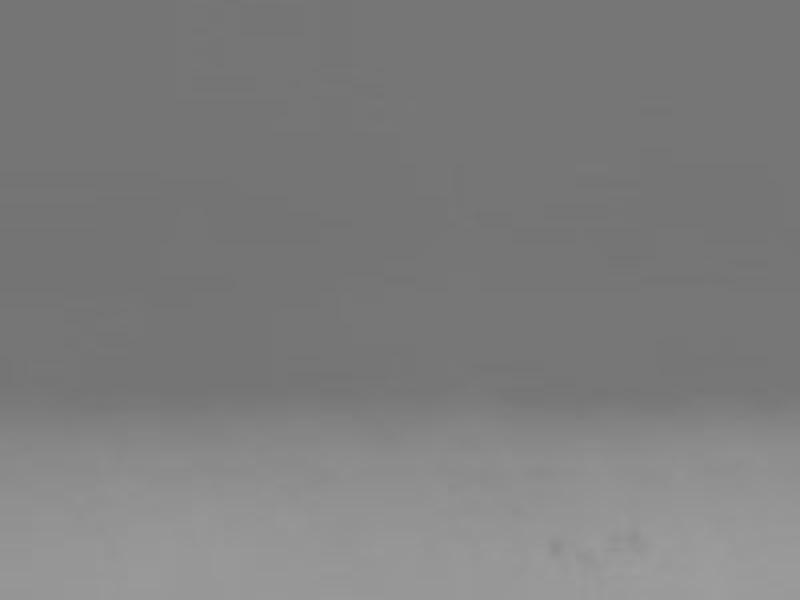defect: (598, 527, 623, 559), (627, 530, 649, 560), (576, 547, 599, 569), (544, 536, 563, 561)
